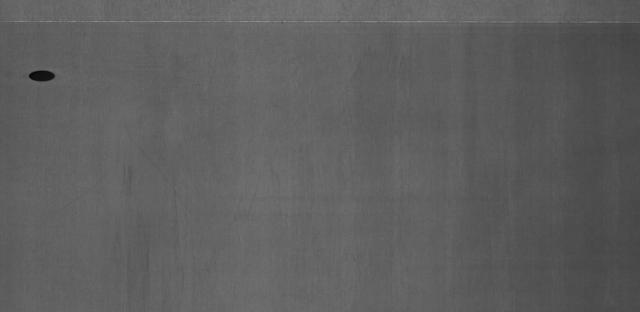punching_hole: (25, 63, 65, 88)
welding_line: (2, 16, 640, 35)
